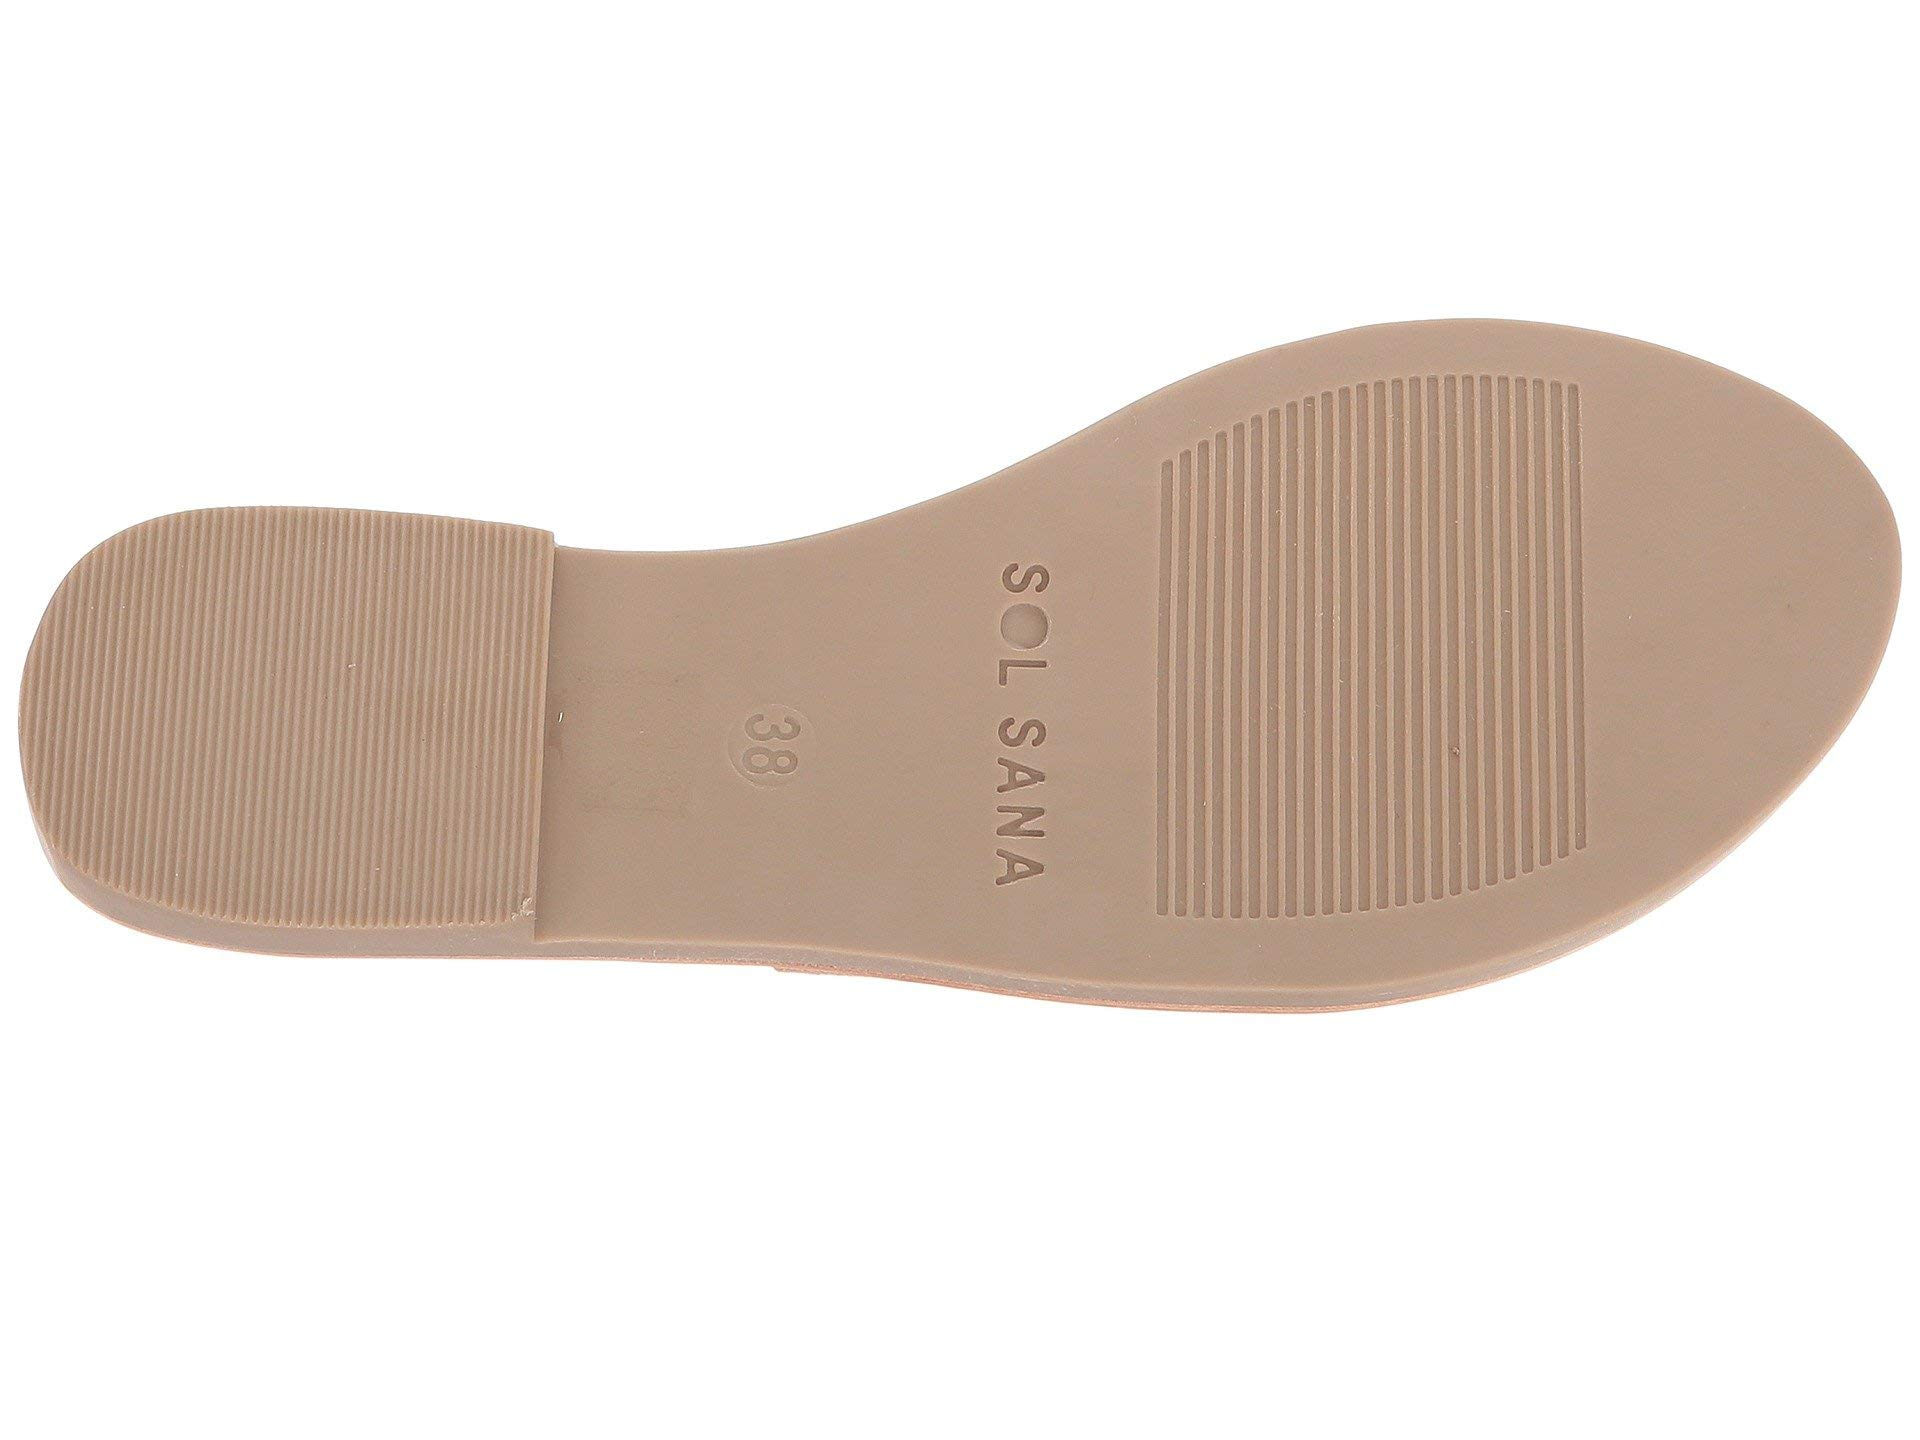circle: (839, 542, 1150, 920), (650, 653, 854, 877)
line: (1217, 529, 1463, 743), (204, 597, 420, 827)
text: (839, 542, 1150, 920), (650, 653, 854, 877)
